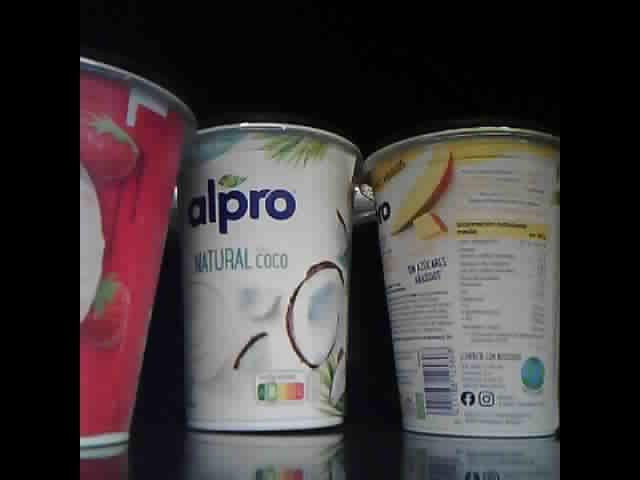alpro: (364, 119, 560, 439), (175, 110, 362, 433), (80, 50, 197, 448)
